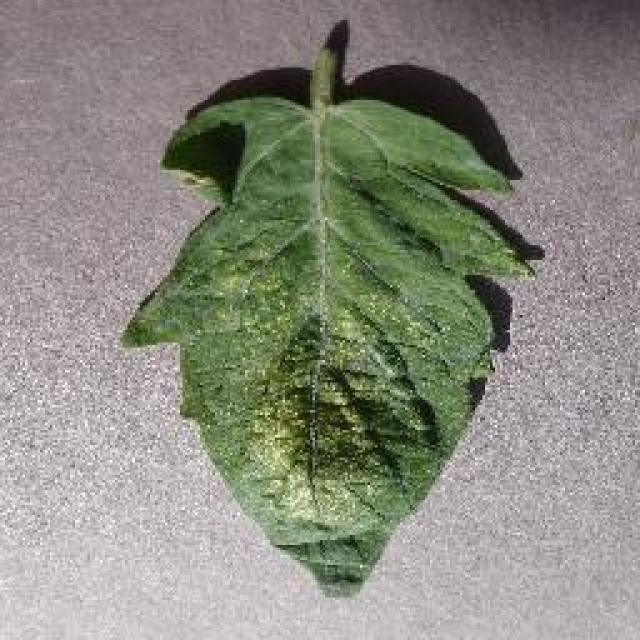Tomato___Spider_mites Two-spotted_spider_mite: (122, 38, 530, 595)
